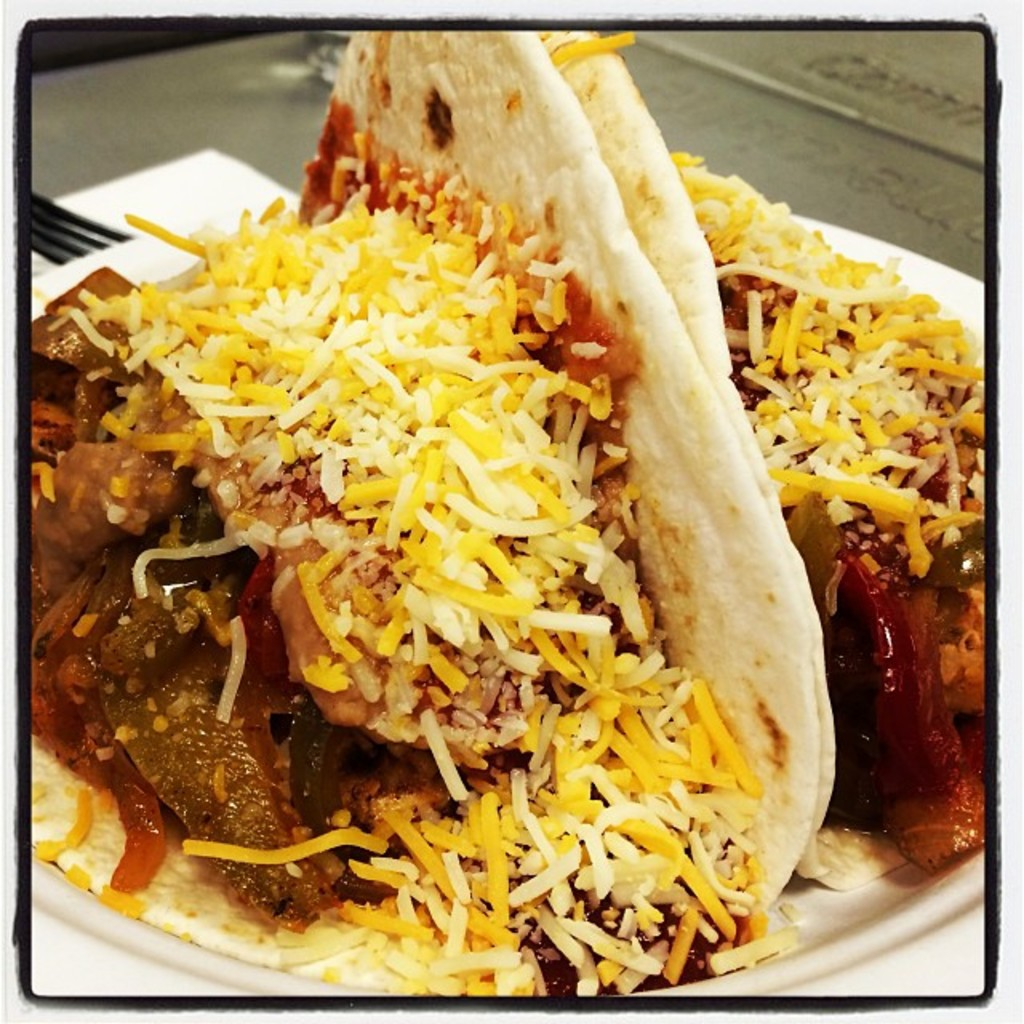taco: (26, 26, 819, 998)
